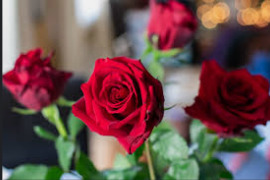RedRose: (79, 56, 165, 146), (190, 57, 270, 132), (0, 55, 69, 107), (139, 0, 205, 50)
